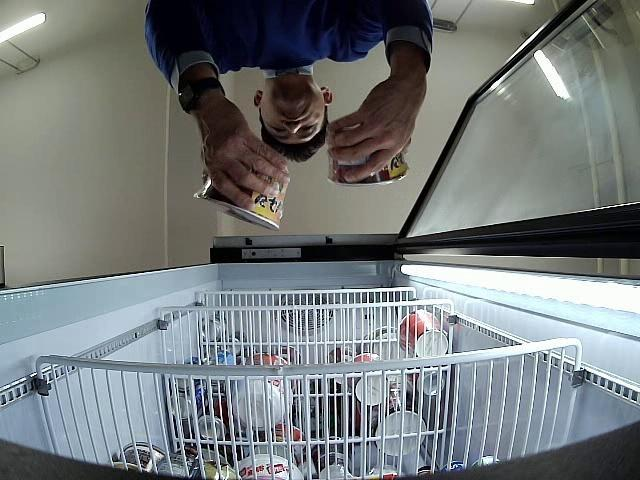05_nuguri_L: (194, 170, 288, 230), (328, 137, 410, 187)
